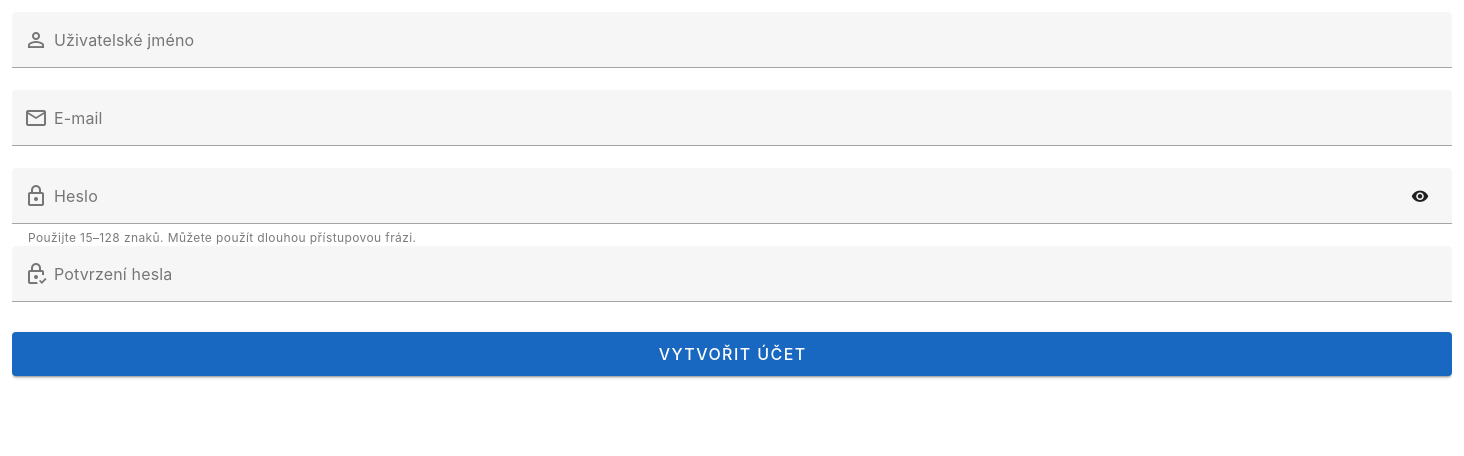
RegisterForm › says that the account already exists on CONFLICT
Type "petr" into the field with id "username". click: (750, 40)
box: top-left (48, 12), bottom-right (1452, 68)
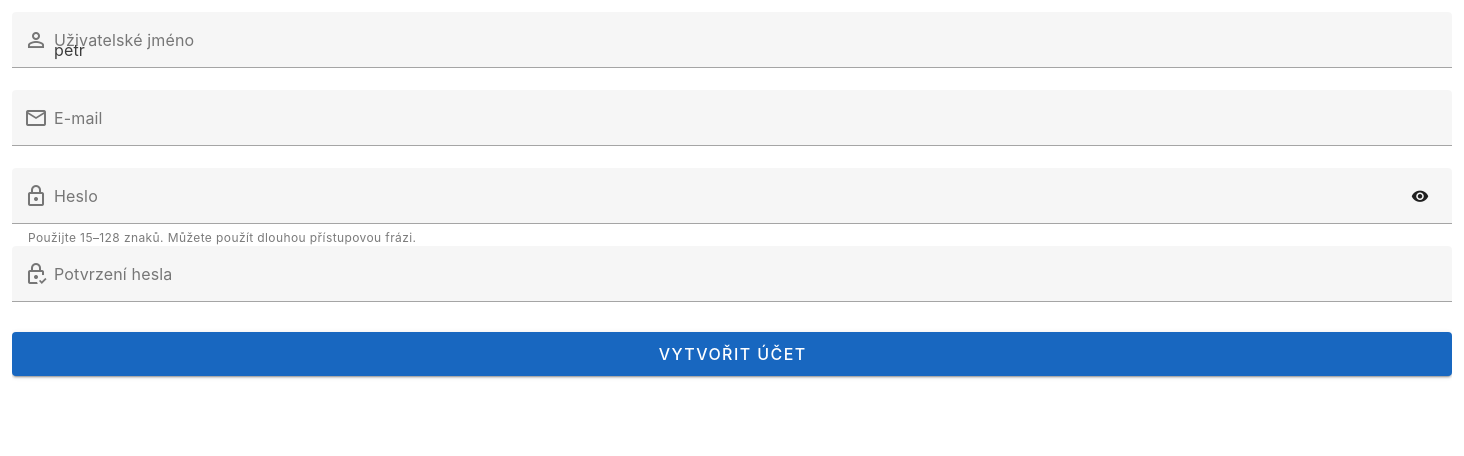
Type "petr@example.com" into the field with id "email". click: (750, 118)
box: top-left (48, 90), bottom-right (1452, 146)
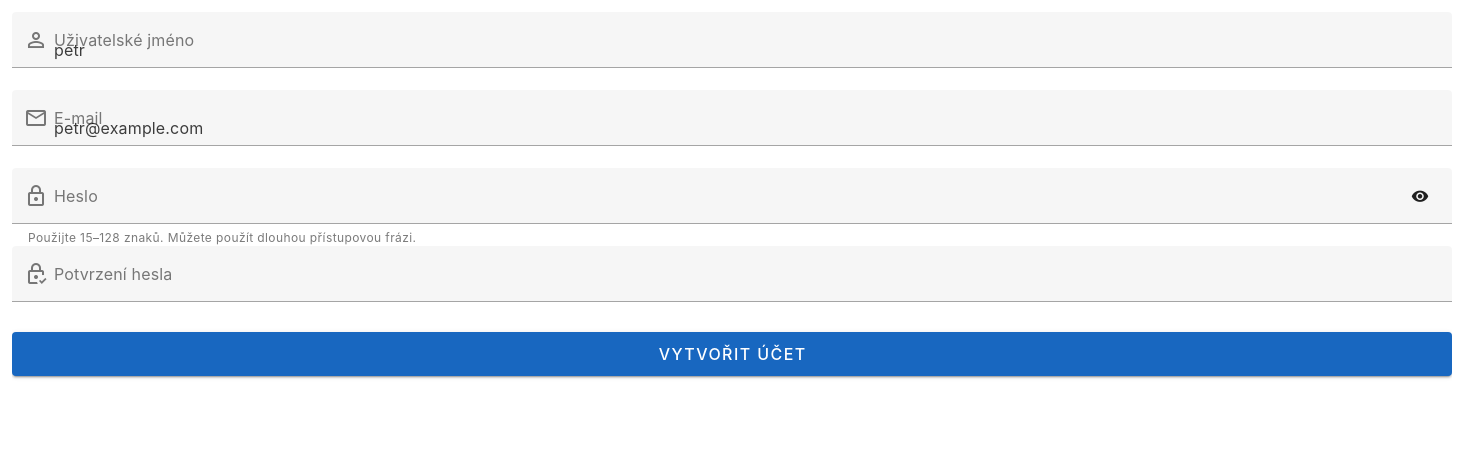
Type "Silver meadow 58!" into the password field labelled "Heslo". click: (724, 196)
box: top-left (48, 168), bottom-right (1400, 224)
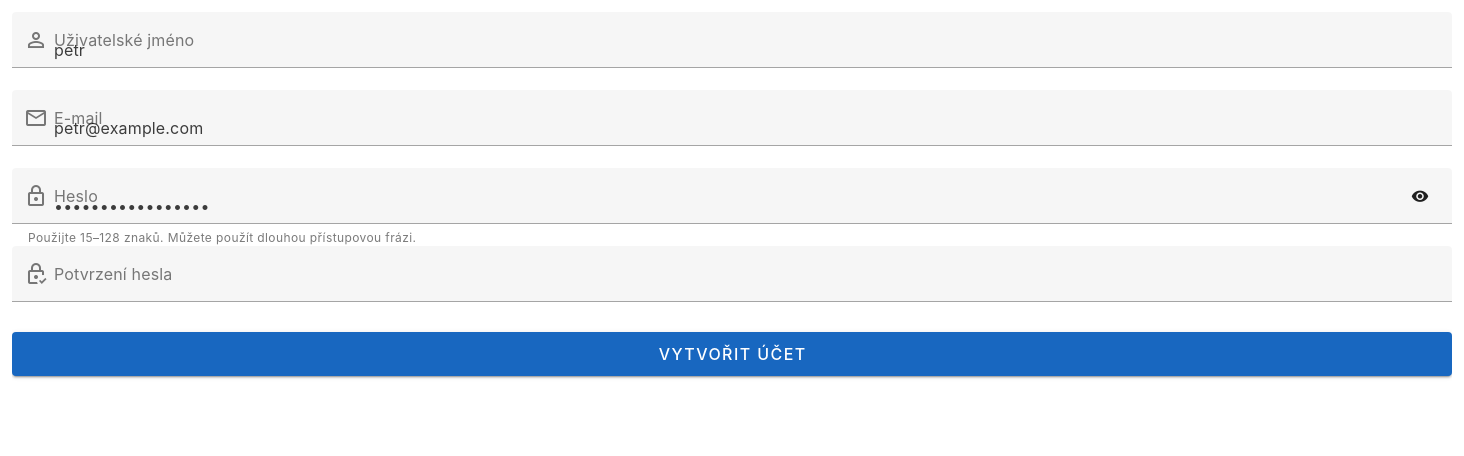
Type "Silver meadow 58!" into the password field with id "confirmPassword". click: (750, 274)
box: top-left (48, 246), bottom-right (1452, 302)
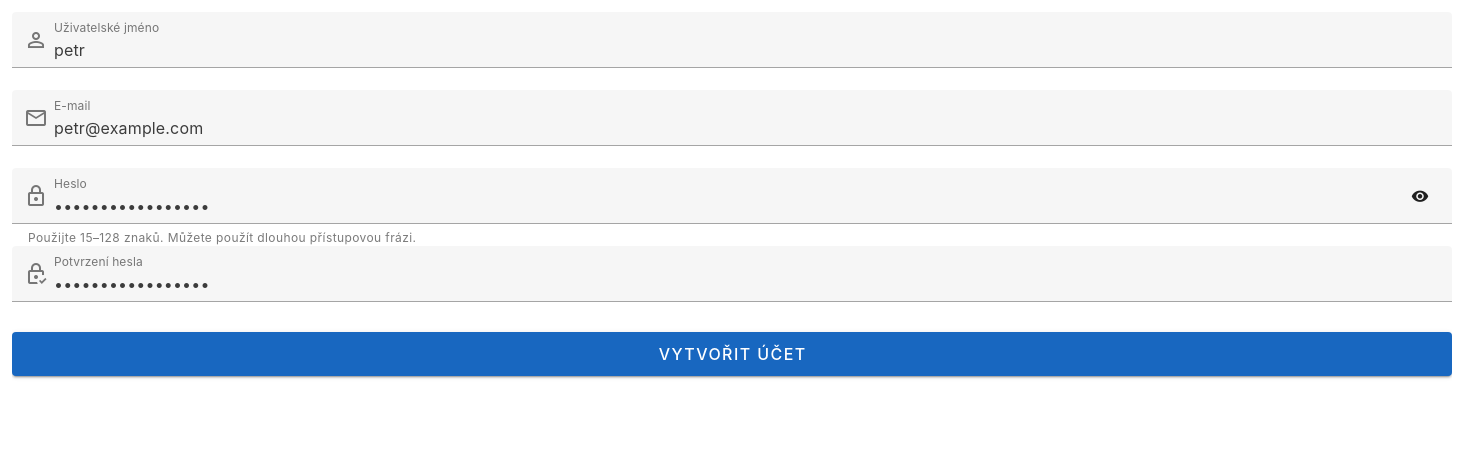
Submit the form
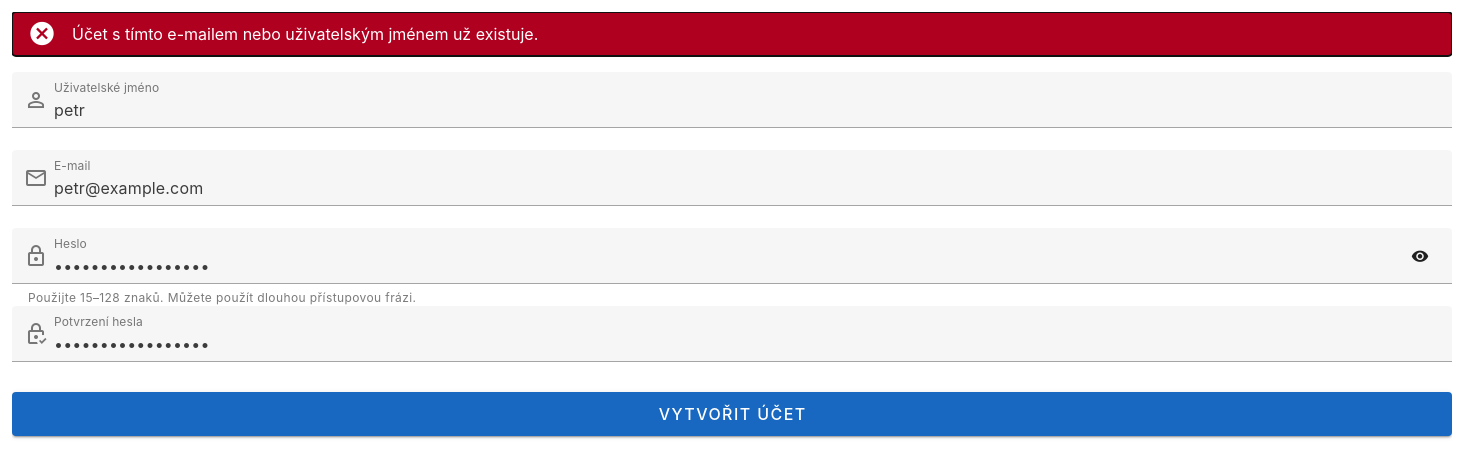
Expected: the message "Účet s tímto e-mailem nebo uživatelským jménem už existuje." is shown, top-left (12, 12), bottom-right (1452, 56)
